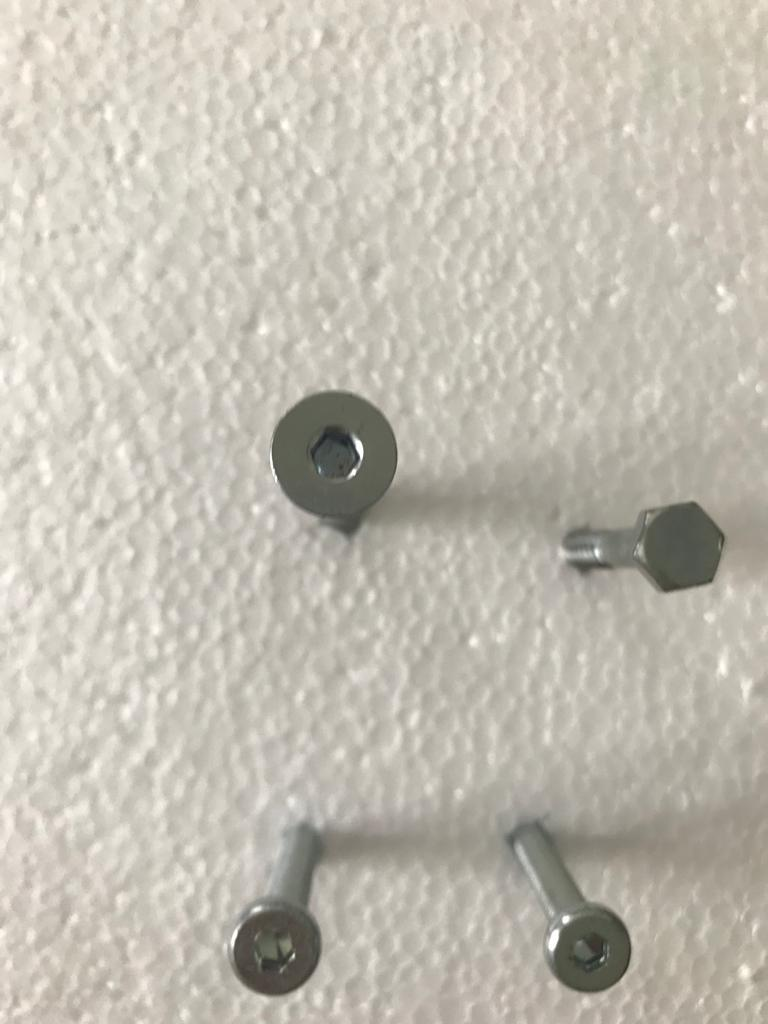H: (269, 389, 399, 516), (228, 900, 321, 995), (544, 905, 633, 995)
